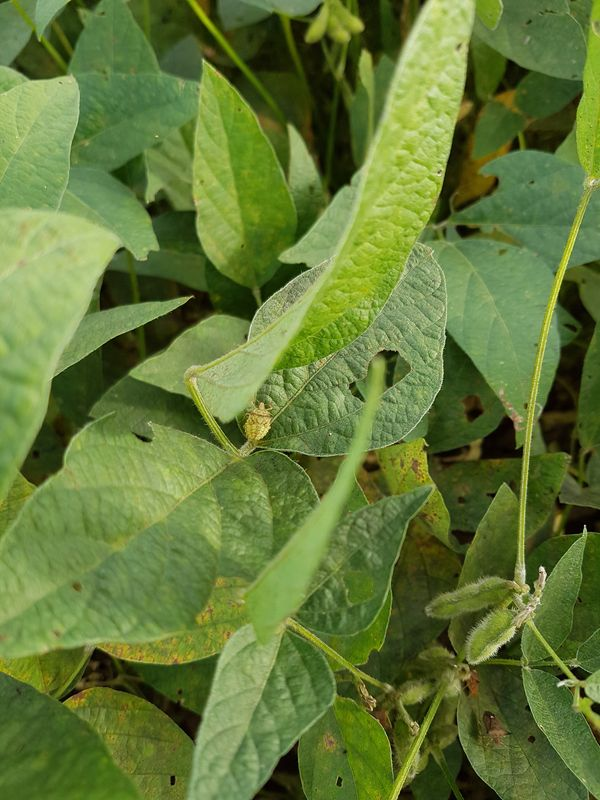Euschistus_heros_adulto: (471, 701, 526, 758), (459, 661, 486, 700)
Euschistus_heros_ninfa: (233, 394, 284, 450)
